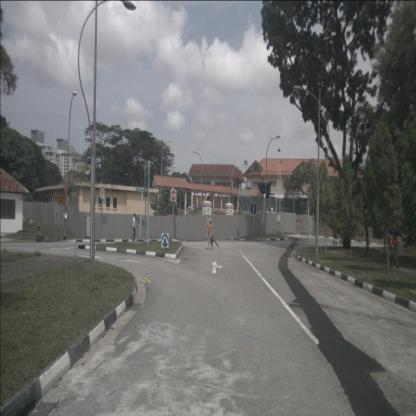human-pedestrian-adult: (388, 221, 400, 268), (206, 219, 219, 250), (131, 213, 137, 242)
